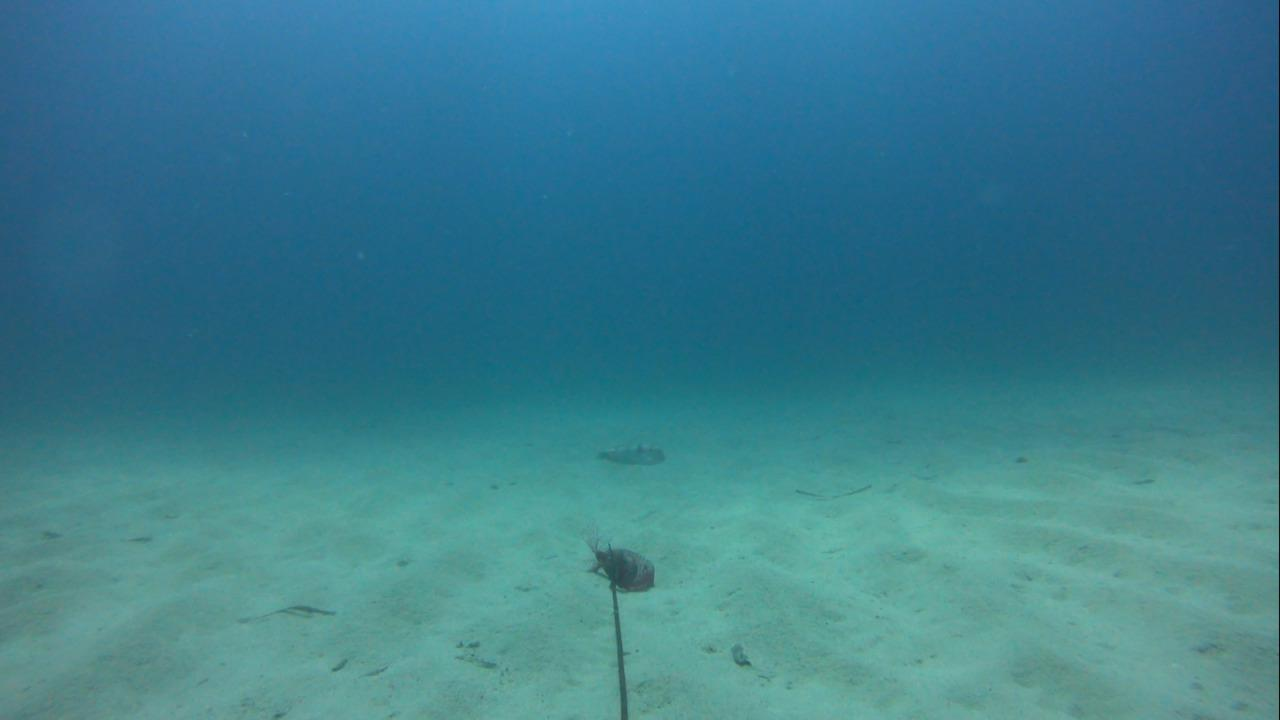raor: (586, 440, 667, 469)
